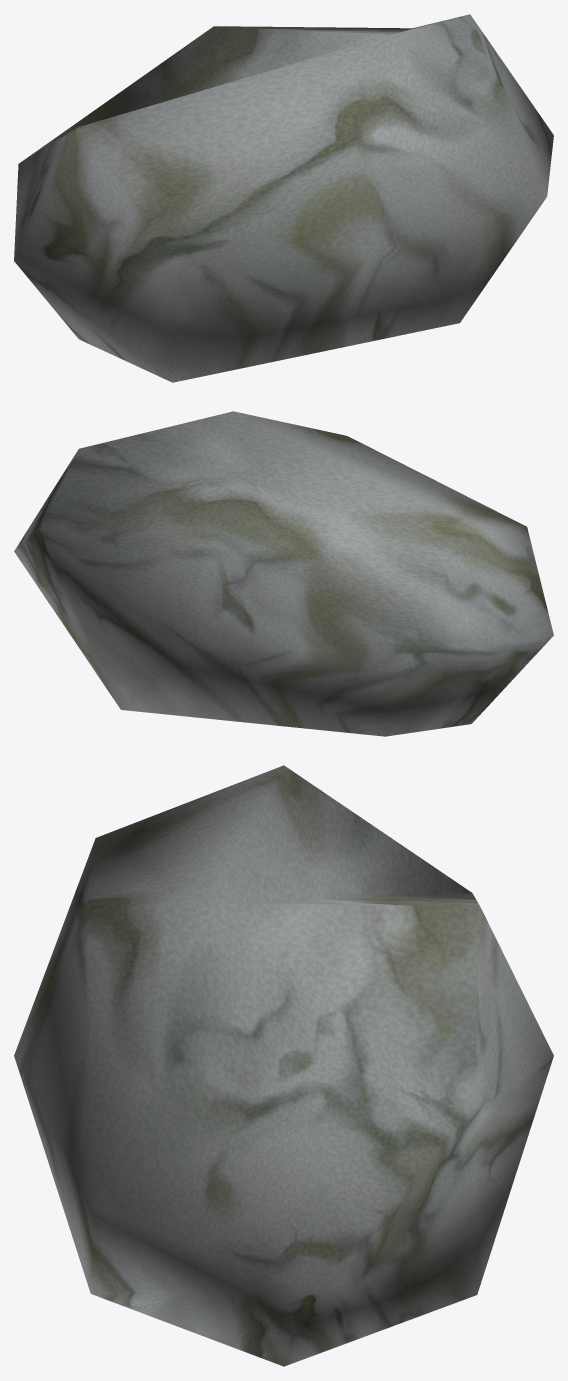
File: Rock_medium05.fbx
3 renders of one model, top to bottom at view 1: azimuth 30°, elevation 25°; view 2: azimuth 150°, elevation 25°; view 3: azimuth 270°, elevation 25°, orthographic. The views are drawn at different scales.
Visible parts, largest first — view 1: Rock_medium05; view 2: Rock_medium05; view 3: Rock_medium05.
Boxes of the visible parts, <box> form: Rock_medium05: <box>14,14,553,382</box>; Rock_medium05: <box>14,411,553,736</box>; Rock_medium05: <box>14,765,553,1366</box>.
Size of the model in its own units: 1.58 by 0.7157 by 0.9307.
Materials: 1 (1 with a texture image).
